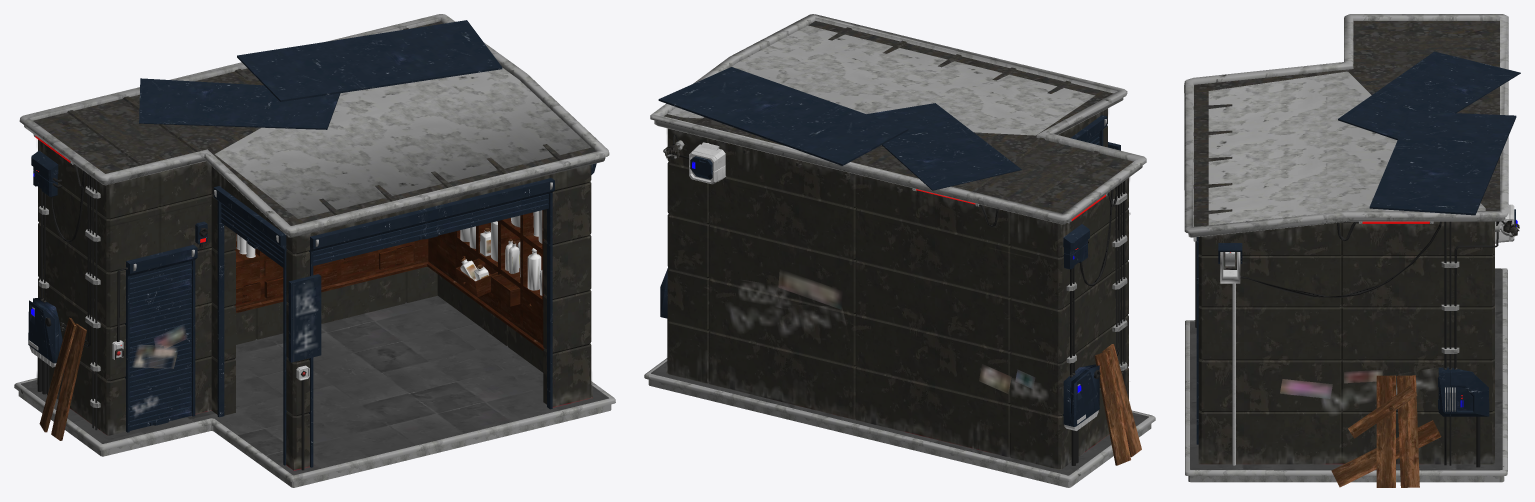
The model's file is KB3D_NEC_BldgSM_C_Main.glb.
3 views of the same model, side by side, from view 1: azimuth 30°, elevation 25°; view 2: azimuth 150°, elevation 25°; view 3: azimuth 270°, elevation 25° (orthographic). The views are drawn at different scales.
Visible parts, largest first — view 1: KB3D_NEC_BldgSM_C_Main; view 2: KB3D_NEC_BldgSM_C_Main; view 3: KB3D_NEC_BldgSM_C_Main.
Part boxes in pixels (<box>): KB3D_NEC_BldgSM_C_Main: <box>14,14,615,487</box>; KB3D_NEC_BldgSM_C_Main: <box>644,14,1155,487</box>; KB3D_NEC_BldgSM_C_Main: <box>1184,14,1520,487</box>.
Bounding box in the file's own units: 6.62 × 3.83 × 4.33.
16 materials, 11 textured.
